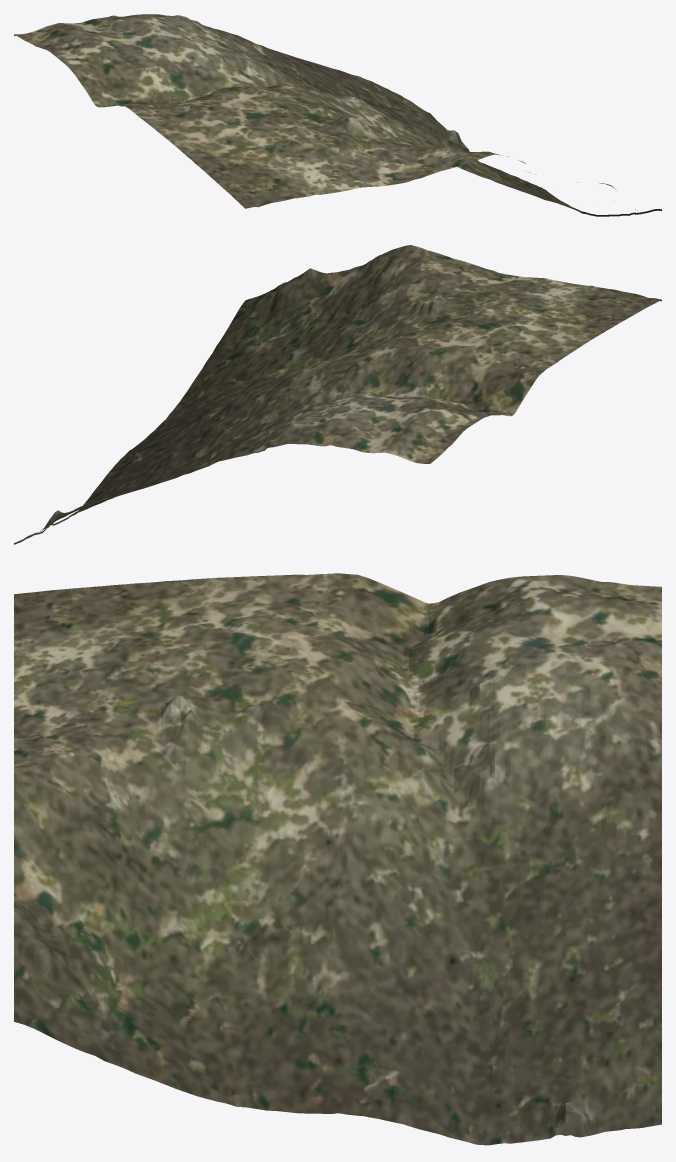
The picture shows the model from 3 angles, top to bottom: view 1: azimuth 30°, elevation 25°; view 2: azimuth 150°, elevation 25°; view 3: azimuth 270°, elevation 25°; orthographic projection. The views are drawn at different scales.
Bounding box in the file's own units: 250 × 120 × 241.
1 material, 1 textured.
